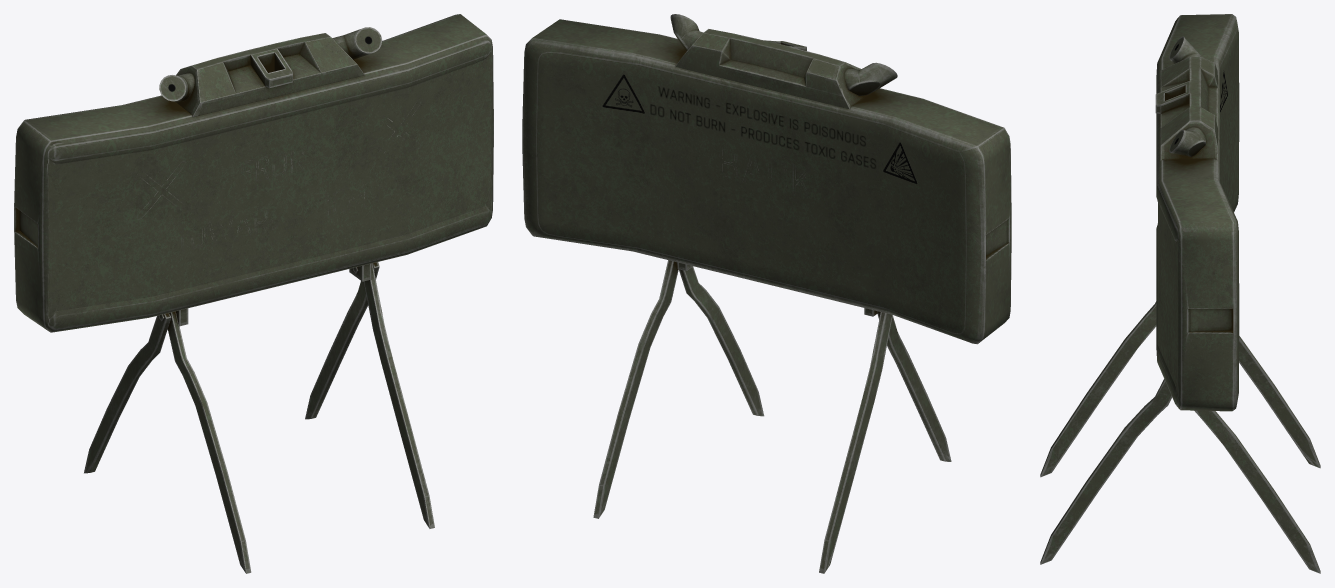
File: claymore.glb
The picture shows the model from 3 angles, left to right: view 1: azimuth 30°, elevation 25°; view 2: azimuth 150°, elevation 25°; view 3: azimuth 270°, elevation 25°; orthographic projection. The views are drawn at different scales.
Parts seen in each view (by area): view 1: claymore001; view 2: claymore001; view 3: claymore001.
Part boxes in pixels (x1,y1,x2,y2): claymore001: [14, 14, 493, 573]; claymore001: [522, 14, 1011, 573]; claymore001: [1040, 14, 1320, 573].
Bounding box in the file's own units: 0.2896 × 0.2716 × 0.1586.
1 material, 1 textured.
